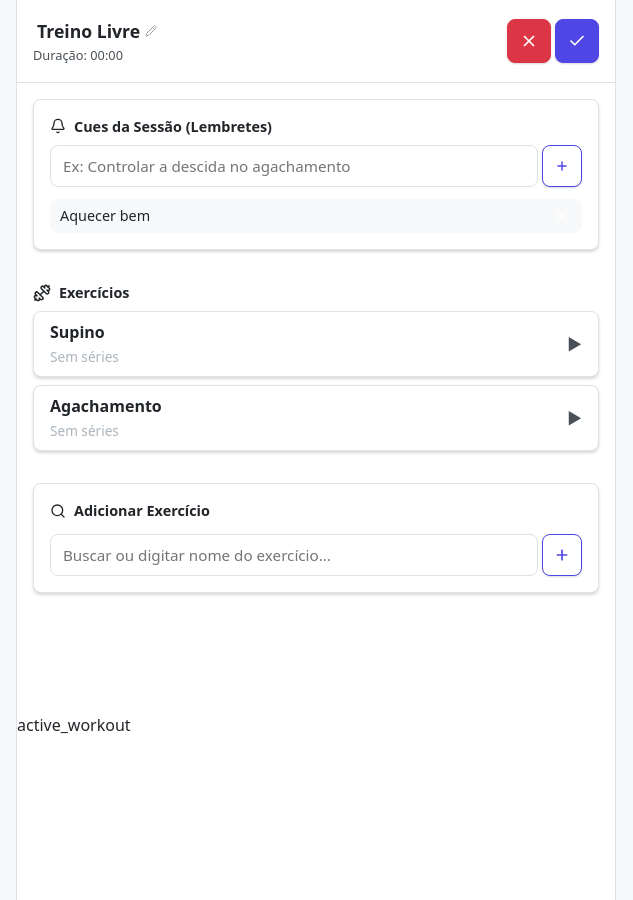
ActiveWorkoutView — detalhe do exercício › volta para a lista pelo botão de voltar da tela do exercício
What coordinates should you click on to do the following:
click the button "Supino Sem séries ▶"
I would click on:
 (77, 332)
Its box is [33,311,599,377].
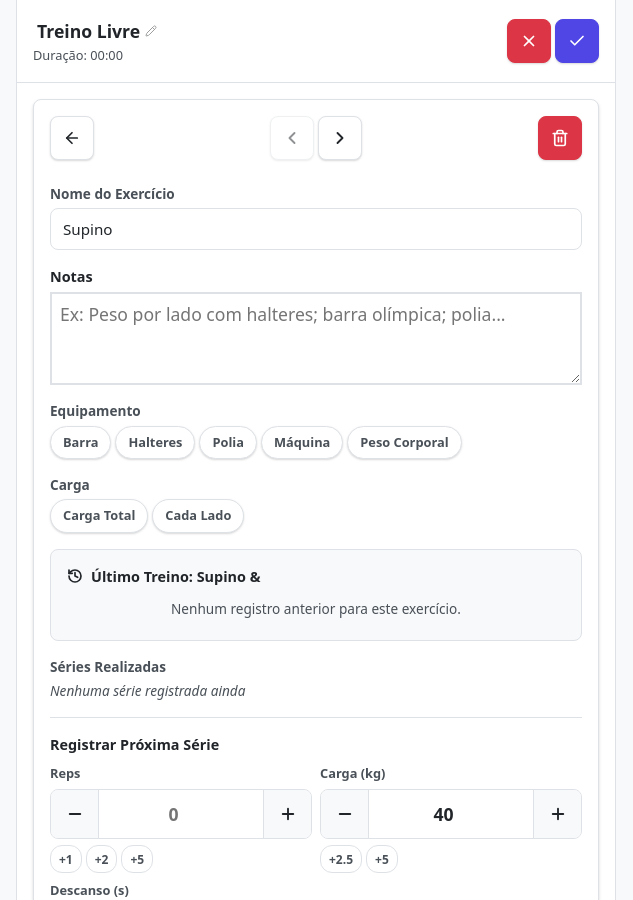
What coordinates should you click on to do the following:
click the button named "Voltar para a lista de exercícios"
I would click on:
 (72, 138)
Its box is [50,116,94,160].
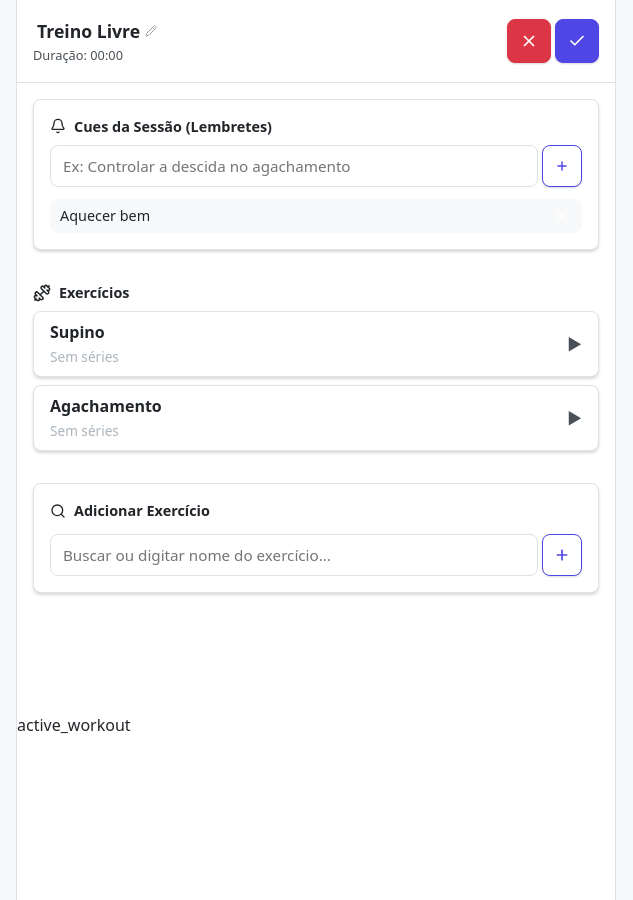
expect the text with test id "view-atual" reads "active_workout": met, box [17,714,131,736]
expect the text "Cues da Sessão (Lembretes)" is shown: met, box [74,116,272,137]
